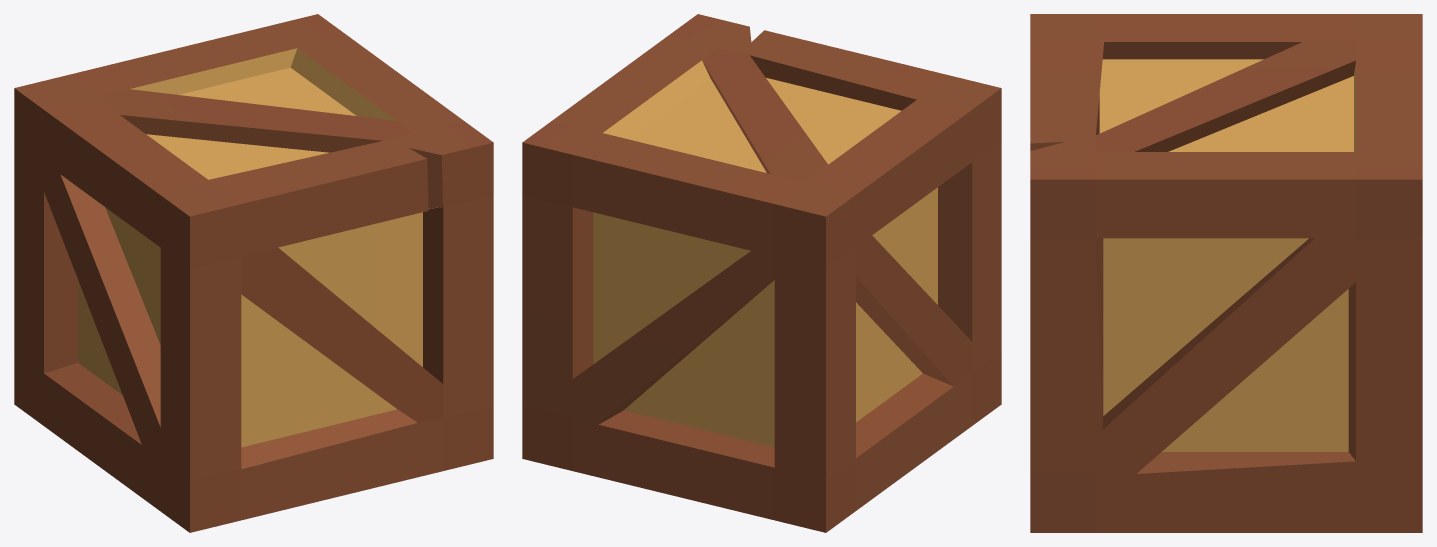
File: Wooden box .fbx
The picture shows the model from 3 angles, left to right: view 1: azimuth 30°, elevation 25°; view 2: azimuth 150°, elevation 25°; view 3: azimuth 270°, elevation 25°; orthographic projection. The views are drawn at different scales.
Visible parts, largest first — view 1: Wooden box; view 2: Wooden box; view 3: Wooden box.
Boxes of the visible parts, left/top/right/bottom form: Wooden box: left=14, top=14, right=493, bottom=532; Wooden box: left=522, top=14, right=1001, bottom=532; Wooden box: left=1030, top=14, right=1422, bottom=532.
Bounding box in the file's own units: 78.01 × 77.62 × 78.1.
